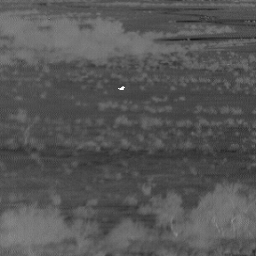Target: (117, 85, 127, 92)
